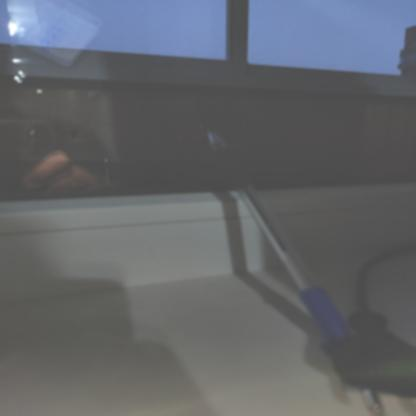pen: (185, 113, 387, 378)
